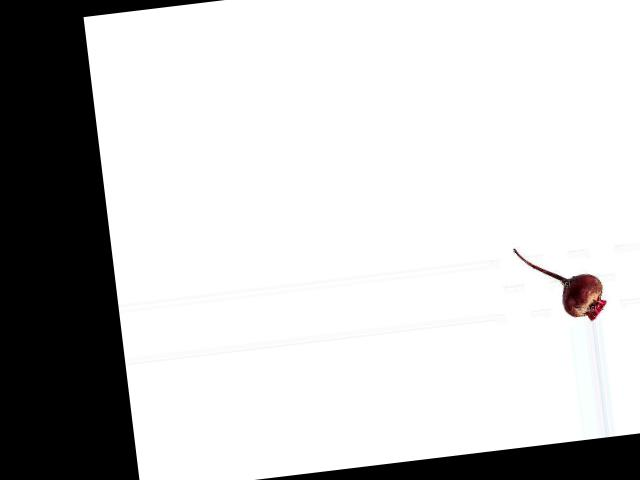beet: (512, 238, 607, 329)
